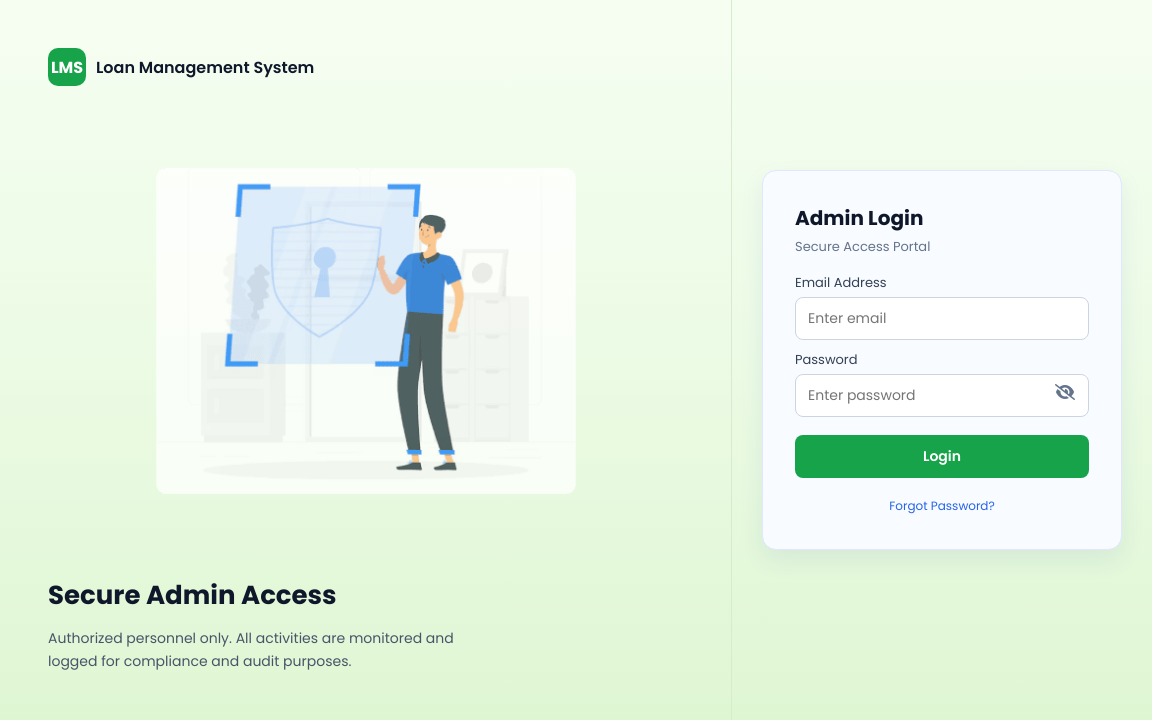
Test: AdminLogin › shows error on login failure
Type "bad@example.com" into the field with placeholder "Enter email". click: (942, 318)
box: top-left (795, 297), bottom-right (1089, 340)
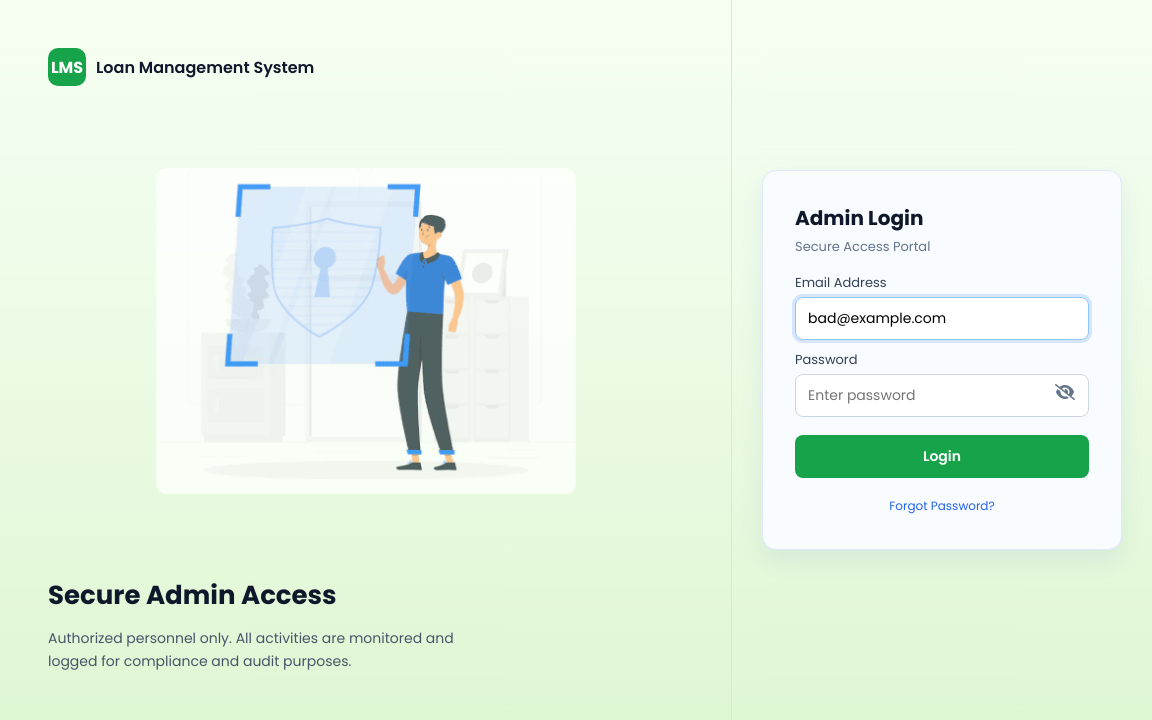
Type "bad" into the password field with placeholder "Enter password". click: (942, 395)
box: top-left (795, 374), bottom-right (1089, 417)
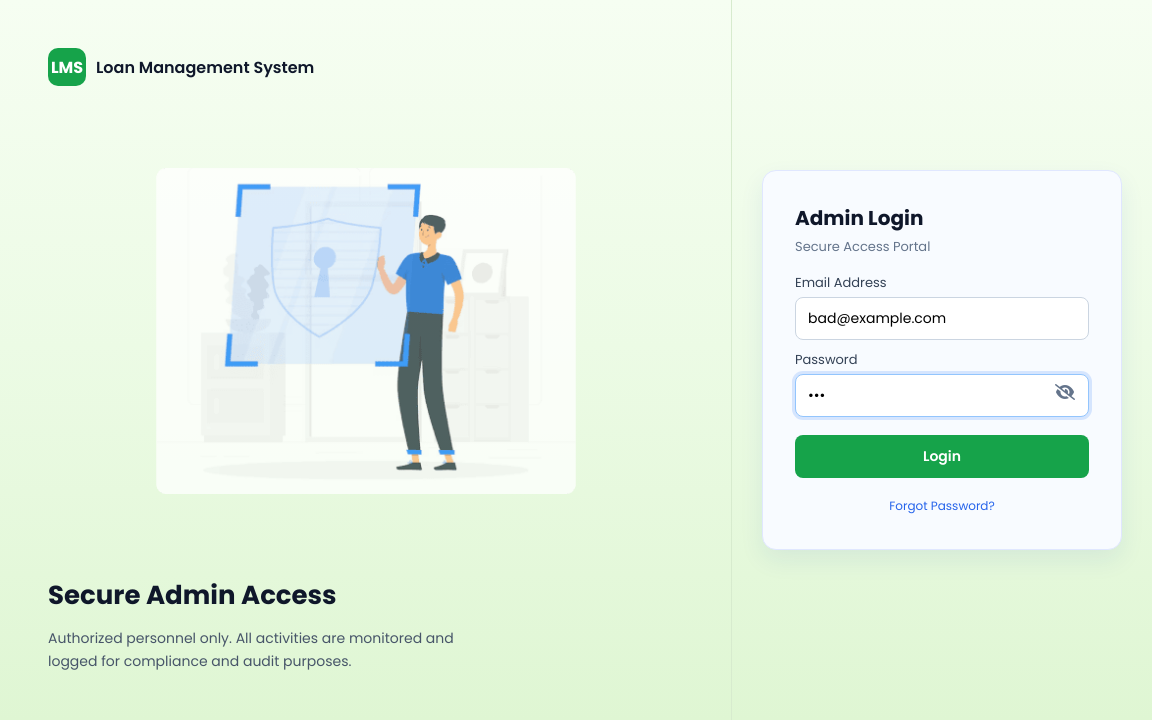
Click the button "Login". click: click(942, 456)
box: top-left (795, 435), bottom-right (1089, 478)
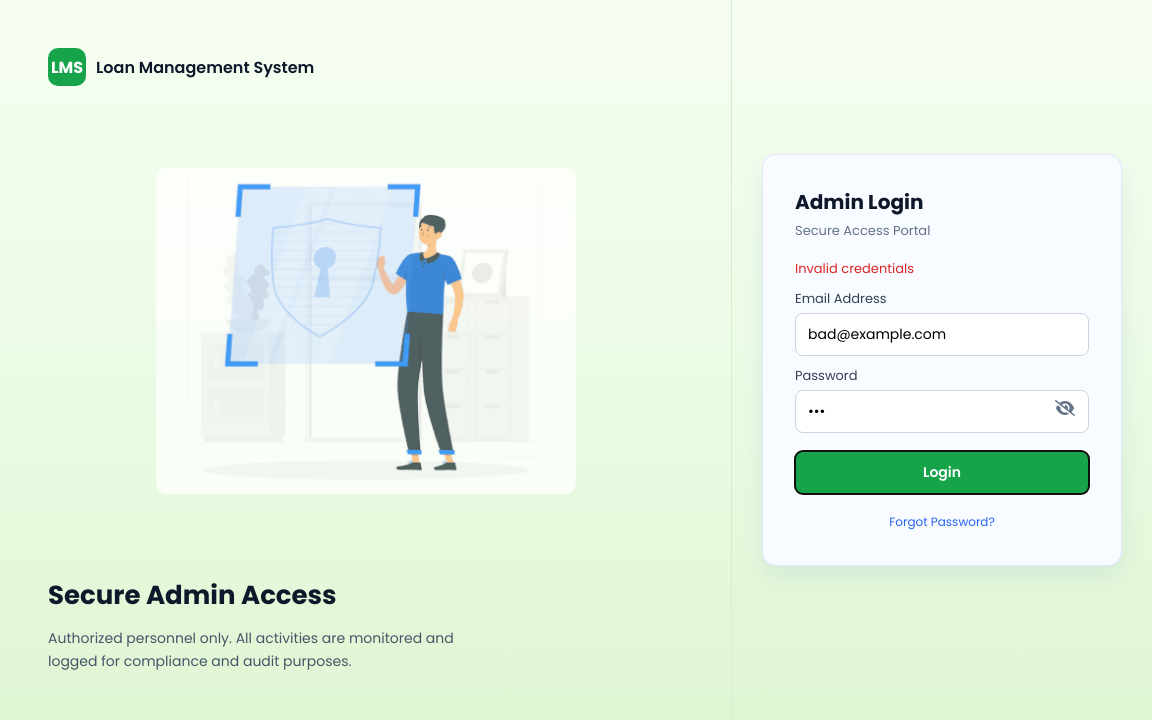
Result: the text "Invalid credentials" is shown at top-left (795, 259), bottom-right (914, 278)
